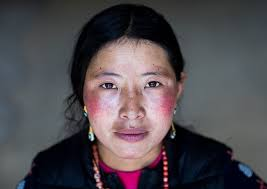person: (69, 3, 187, 163)
